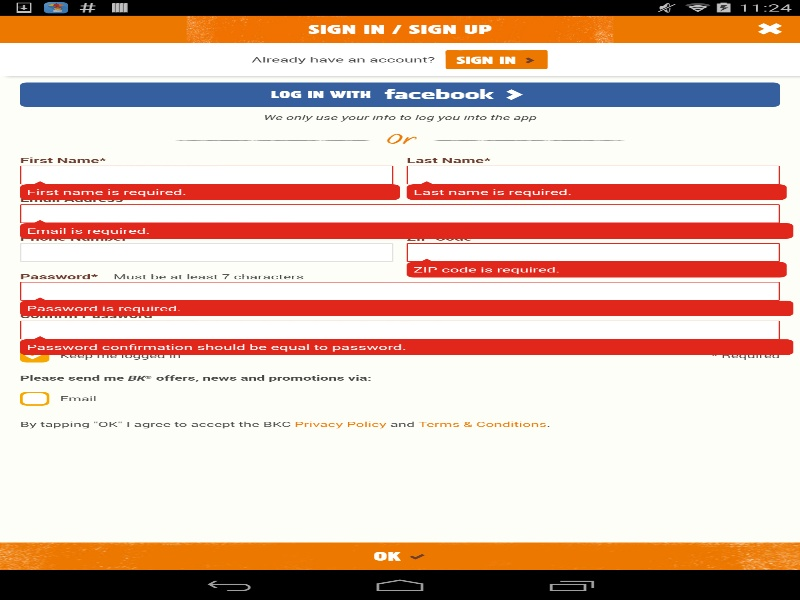Button: (12, 78, 788, 110), (0, 542, 800, 570), (437, 46, 557, 73), (13, 15, 69, 43)
Input: (20, 204, 780, 223), (20, 281, 780, 300), (20, 320, 780, 339), (406, 165, 780, 184), (20, 165, 393, 184), (406, 243, 780, 261), (20, 243, 393, 261)
